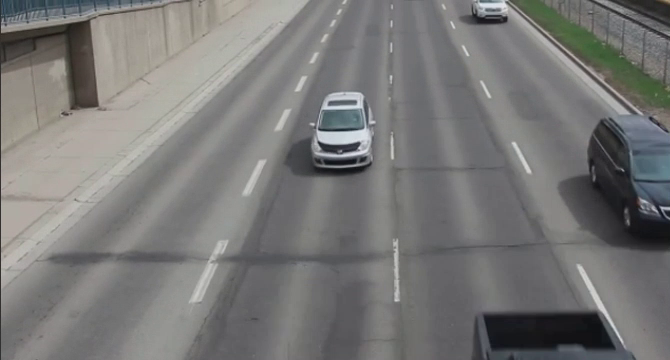car: (586, 108, 670, 240), (309, 85, 381, 173), (471, 1, 513, 24)
